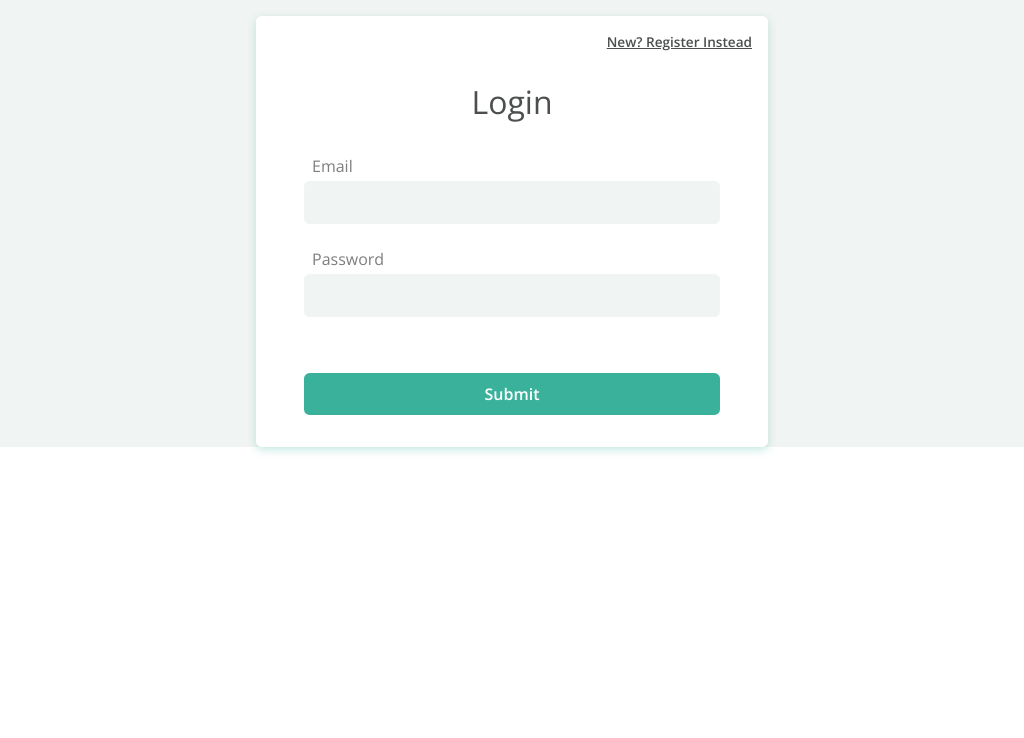
Auth page component › Should change to register mode on btn click
This screenshot has width=1024, height=738.
Click the link "New? Register Instead": [679, 42] box [607,32,752,51]
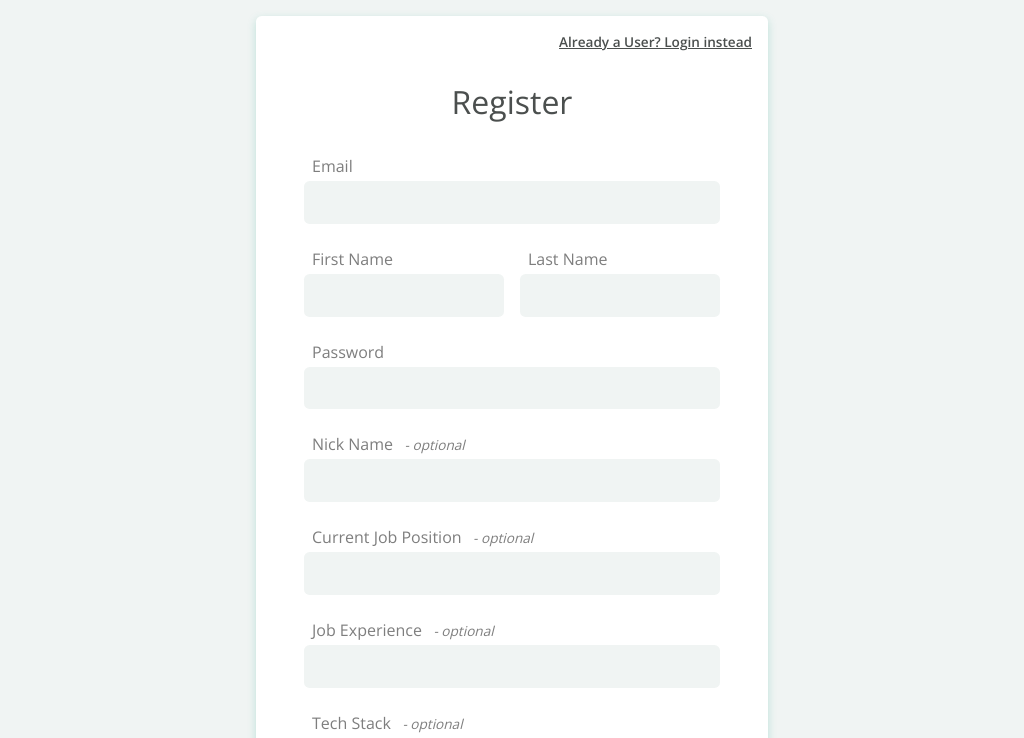
Check: the heading "Register" is shown, box [452,80,572,123]
